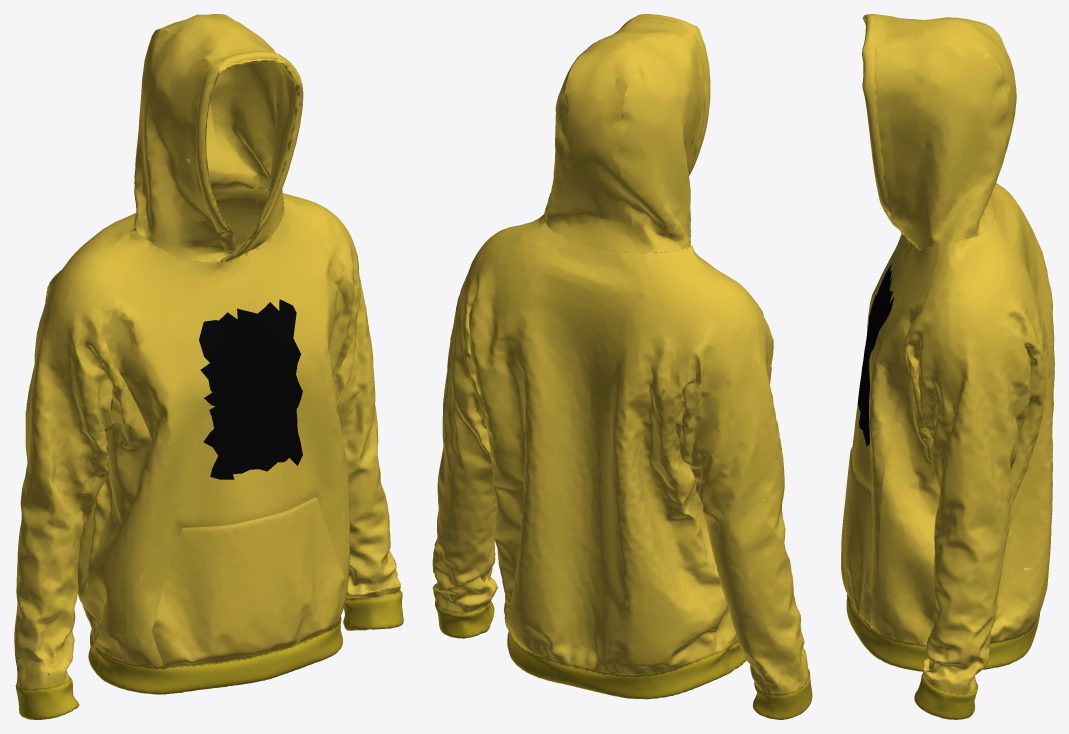
The model's file is hoodie1.glb.
3 renders of one model, left to right at view 1: azimuth 30°, elevation 25°; view 2: azimuth 150°, elevation 25°; view 3: azimuth 270°, elevation 25°, orthographic. The views are drawn at different scales.
Visible parts, largest first — view 1: Object_4, Object_5, Mug_Porcelain_PBR001_0, Object_9; view 2: Object_4, Object_5, Object_9; view 3: Object_4, Object_5, Object_9, Mug_Porcelain_PBR001_0.
Part boxes in pixels (x1=…): Object_4: x1=14, y1=14, x2=354, y2=688; Object_5: x1=15, y1=187, x2=400, y2=667; Mug_Porcelain_PBR001_0: x1=199, y1=299, x2=302, y2=479; Object_9: x1=15, y1=591, x2=403, y2=719; Object_4: x1=470, y1=14, x2=808, y2=694; Object_5: x1=432, y1=214, x2=804, y2=674; Object_9: x1=435, y1=599, x2=812, y2=719; Object_4: x1=852, y1=14, x2=1054, y2=645; Object_5: x1=841, y1=188, x2=1054, y2=693; Object_9: x1=846, y1=594, x2=1039, y2=719; Mug_Porcelain_PBR001_0: x1=857, y1=264, x2=894, y2=445.
Size of the model in its own units: 0.2345 by 0.386 by 0.1207.
3 materials, 1 textured.
